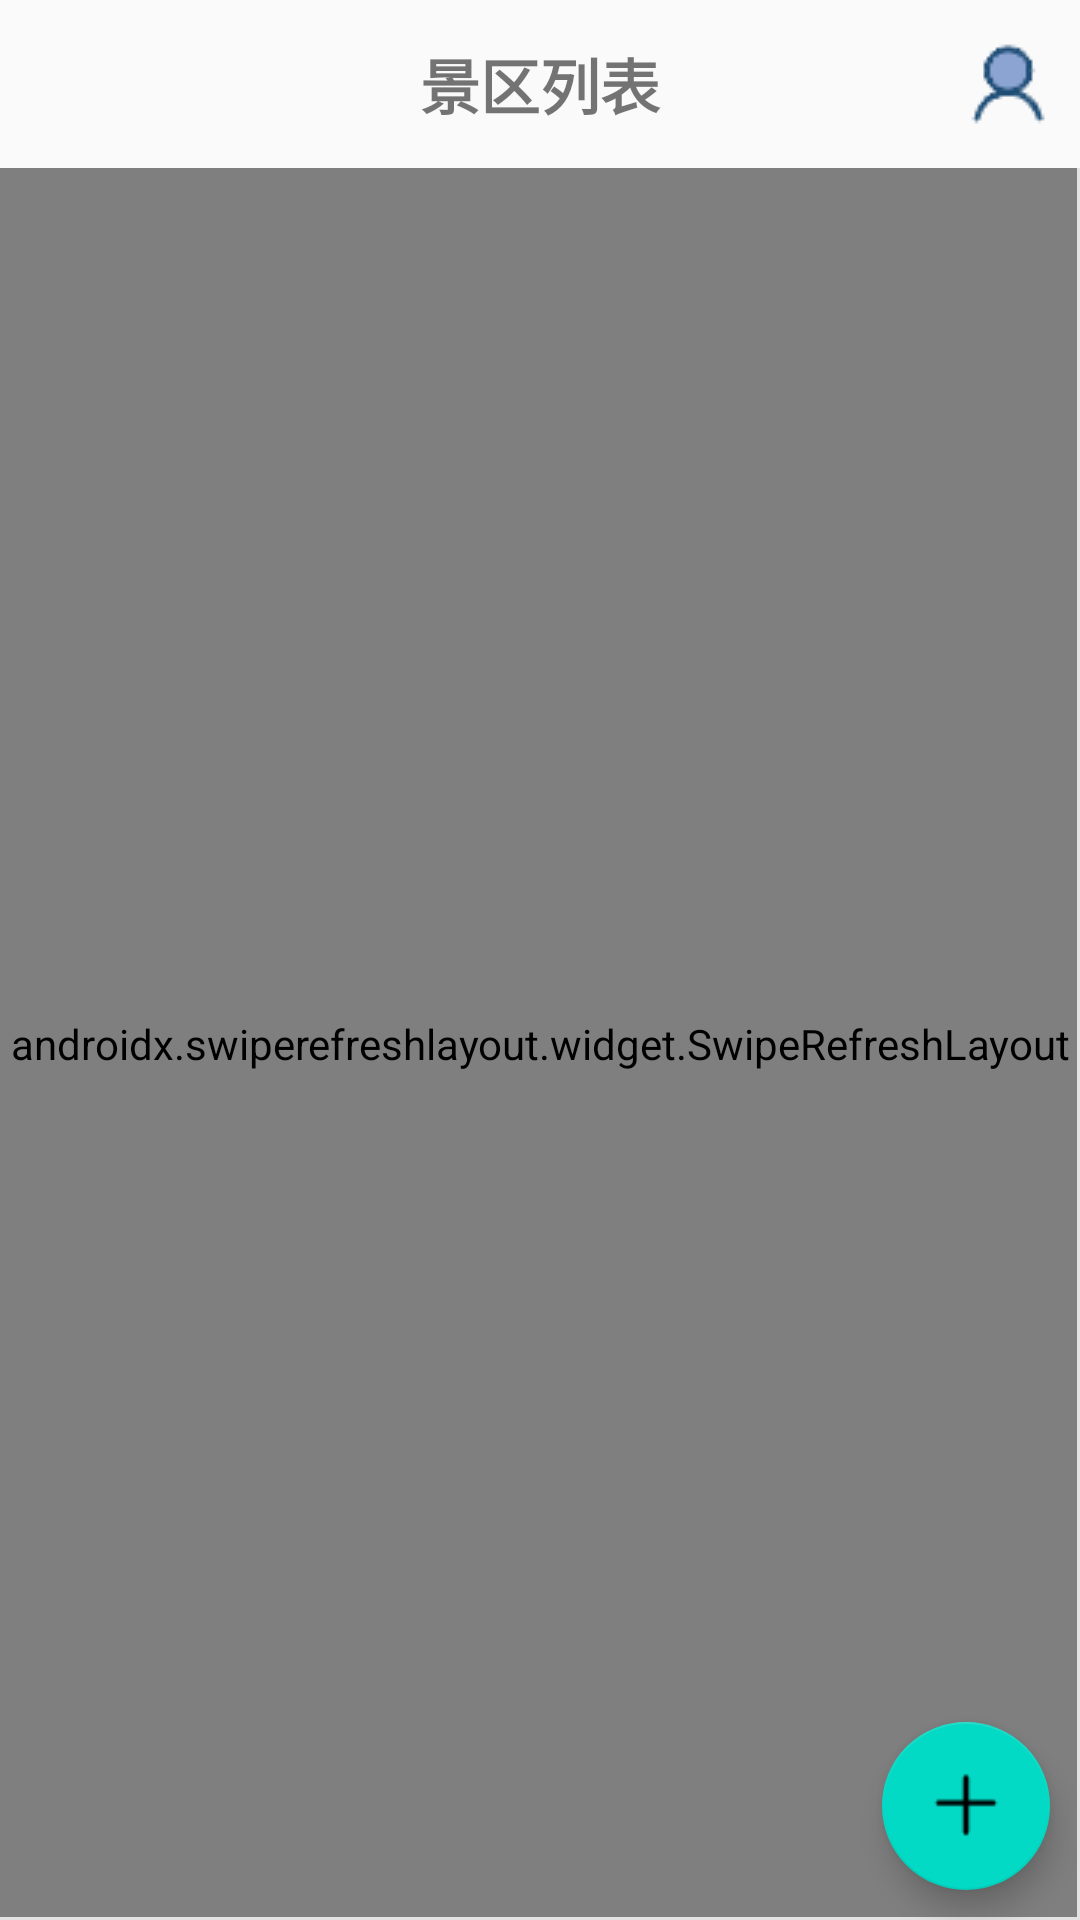

Screen size 1080×1920. Icon name, then its box in pixels as rect(x1, y1, x2, y2):
add: rect(882, 1722, 1050, 1890)
user: rect(972, 44, 1045, 124)
